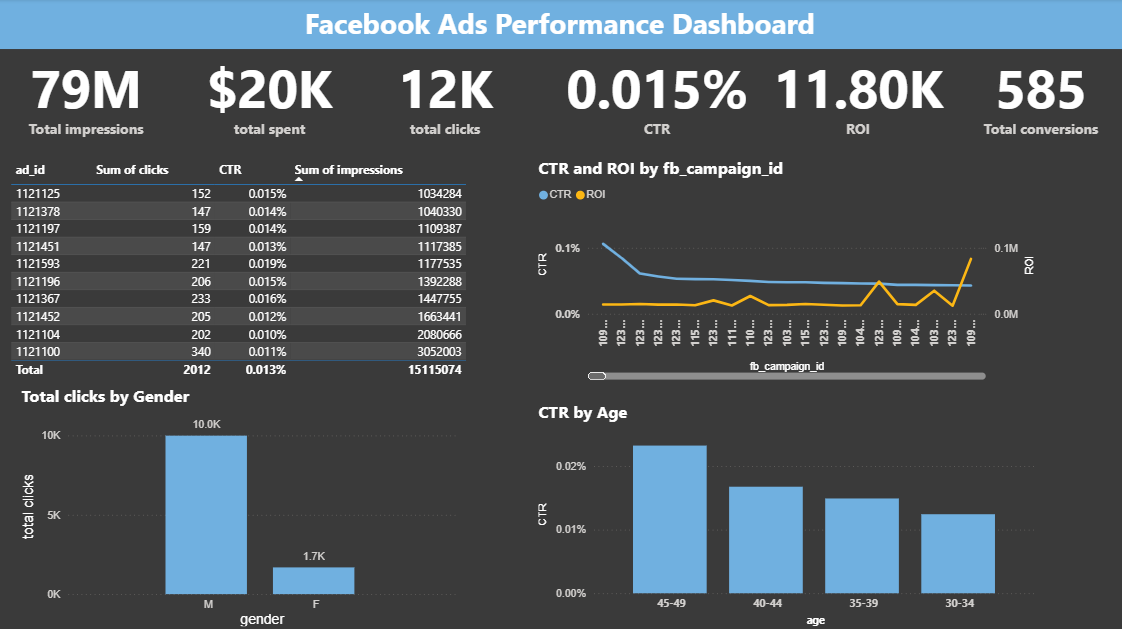

Layout of this report page (visuals, bound fields, positions):
{"tool":"powerbi","page":{"name":"Page 1","canvas":[1280,720],"ordinal":0},"visuals":[{"type":"card","fields":{"Values":["data.Total impressions"]},"box":[0,38.7,200.5,140.1],"z":0},{"type":"card","fields":{"Values":["data.total clicks"]},"box":[409,38.7,200.5,140.1],"z":3},{"type":"card","fields":{"Values":["data.total spent"]},"box":[209.6,38.7,199.4,140.1],"z":4},{"type":"card","fields":{"Values":["data.CTR"]},"box":[640.3,38.7,221,140.1],"z":5},{"type":"card","fields":{"Values":["data.ROI"]},"box":[873.8,38.7,211.9,140.1],"z":6},{"type":"tableEx","fields":{"Values":["data.ad_id","Sum(data.clicks)","data.CTR","Sum(data.impressions)"]},"box":[9.1,178.9,529.7,259.7],"z":7},{"type":"lineChart","fields":{"Y":["data.CTR"],"Y2":["data.ROI"],"Category":["data.fb_campaign_id"]},"box":[610.6,178.9,577.6,259.7],"z":8},{"type":"card","fields":{"Values":["data.Total conversions"]},"box":[1095.9,38.7,184.6,140.1],"z":9},{"type":"columnChart","title":"Total clicks by Gender","fields":{"Category":["data.gender"],"Y":["data.total clicks"]},"box":[21.6,438.6,504.7,281.4],"z":10},{"type":"columnChart","title":"CTR by Age","fields":{"Category":["data.age"],"Y":["data.CTR"]},"box":[610.6,456.8,577.6,263.2],"z":11},{"type":"textbox","box":[0,0,1280.5,57],"z":12}]}

Visuals, with their boxes in screenshot pixels (x1, y1, x2, y2), scaled from the page's 1280x720 canvas onto the 1122x629 screenshot:
card - data.Total impressions: x1=0, y1=34, x2=176, y2=156
card - data.total clicks: x1=359, y1=34, x2=534, y2=156
card - data.total spent: x1=184, y1=34, x2=359, y2=156
card - data.CTR: x1=561, y1=34, x2=755, y2=156
card - data.ROI: x1=766, y1=34, x2=952, y2=156
tableEx - data.ad_id x Sum(data.clicks): x1=8, y1=156, x2=472, y2=383
lineChart - data.CTR x data.ROI: x1=535, y1=156, x2=1042, y2=383
card - data.Total conversions: x1=961, y1=34, x2=1121, y2=156
"Total clicks by Gender" columnChart: x1=19, y1=383, x2=461, y2=628
"CTR by Age" columnChart: x1=535, y1=399, x2=1042, y2=628
textbox: x1=0, y1=0, x2=1121, y2=50
